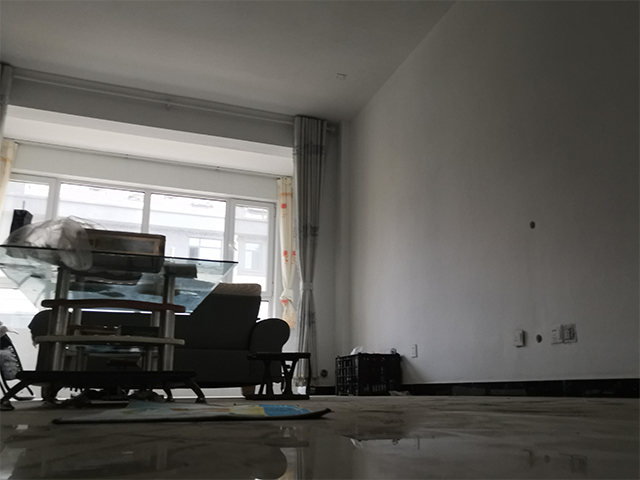carpet: (48, 397, 333, 426)
curtain: (291, 114, 329, 383), (275, 178, 299, 319)
sofa: (28, 282, 292, 400)
stool: (243, 351, 313, 402)
table: (1, 243, 241, 412)
